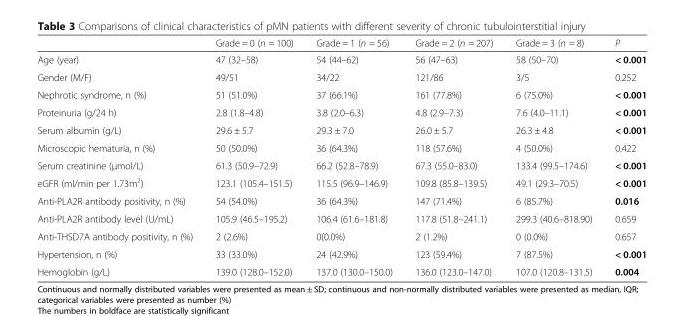table: (36, 36, 646, 277)
table column: (36, 36, 203, 277), (203, 36, 304, 277), (403, 36, 503, 277), (304, 36, 403, 277), (503, 36, 602, 277), (602, 36, 646, 277)
table column header: (36, 36, 646, 50)
table row: (36, 67, 646, 85), (36, 85, 646, 103), (36, 120, 646, 138), (36, 155, 646, 173), (36, 173, 646, 191), (36, 191, 646, 209), (36, 209, 646, 227), (36, 244, 646, 262), (36, 50, 646, 67), (36, 103, 646, 120), (36, 138, 646, 155), (36, 227, 646, 244), (36, 262, 646, 277), (36, 36, 646, 50)
